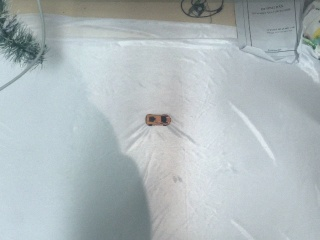toy_car: (145, 111, 172, 128)
